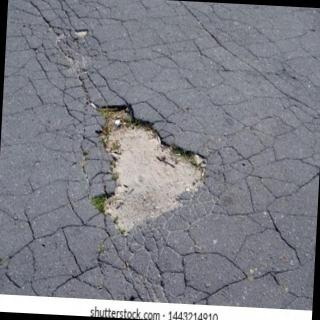pothole: (98, 107, 206, 235)
